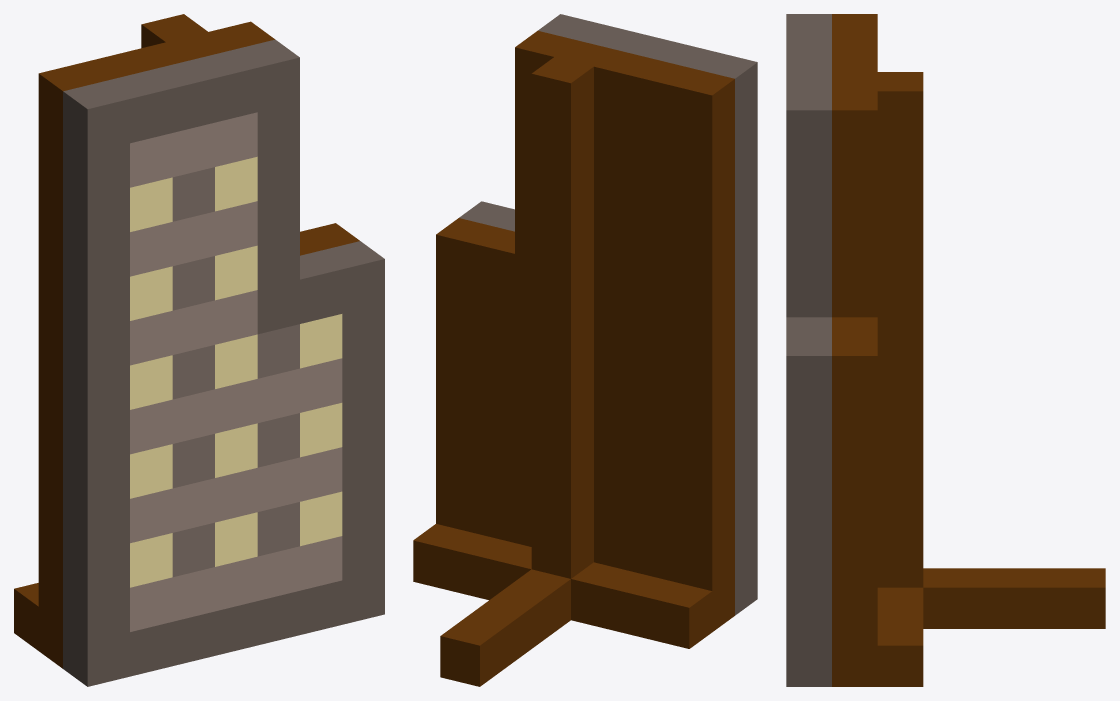
File: Building3-3.obj
The picture shows the model from 3 angles, left to right: view 1: azimuth 30°, elevation 25°; view 2: azimuth 150°, elevation 25°; view 3: azimuth 270°, elevation 25°; orthographic projection. The views are drawn at different scales.
Bounding box in the file's own units: 0.7 × 1.3 × 0.7.
Materials: 1 (1 with a texture image).
